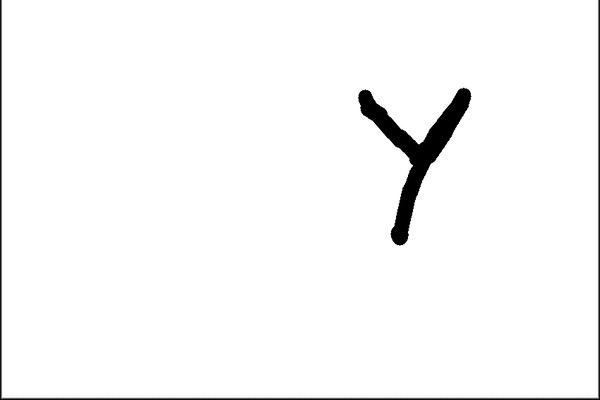Y: (344, 76, 480, 259)
